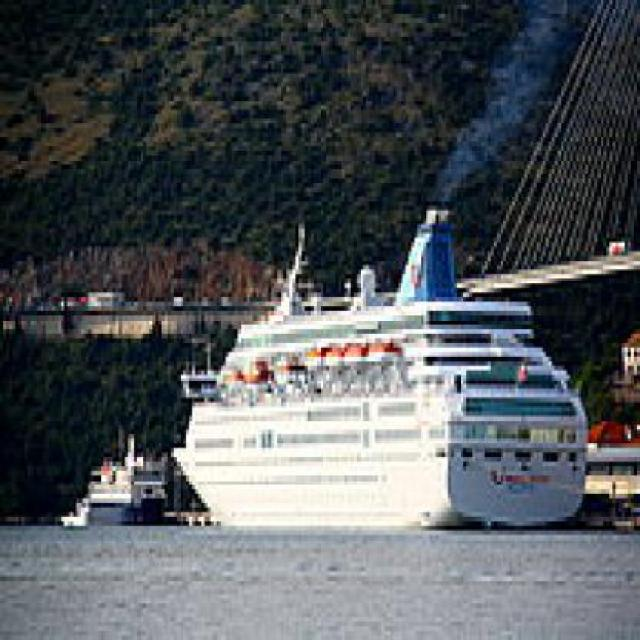cruise: (171, 206, 602, 545)
